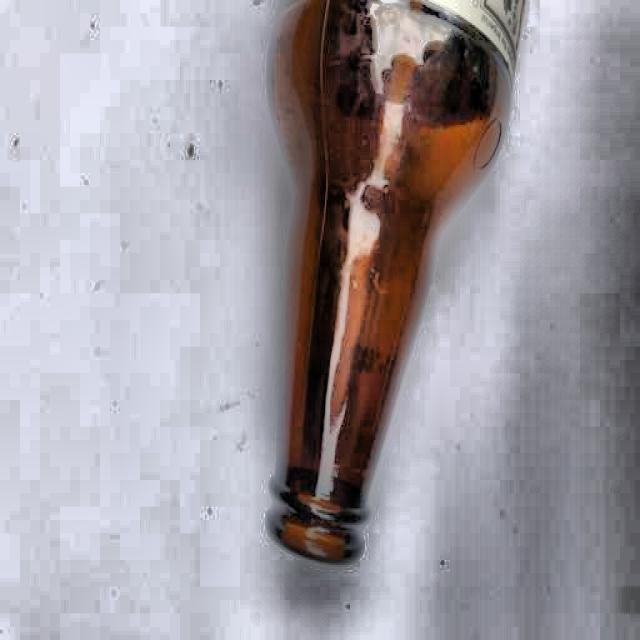glass: (260, 0, 525, 573)
